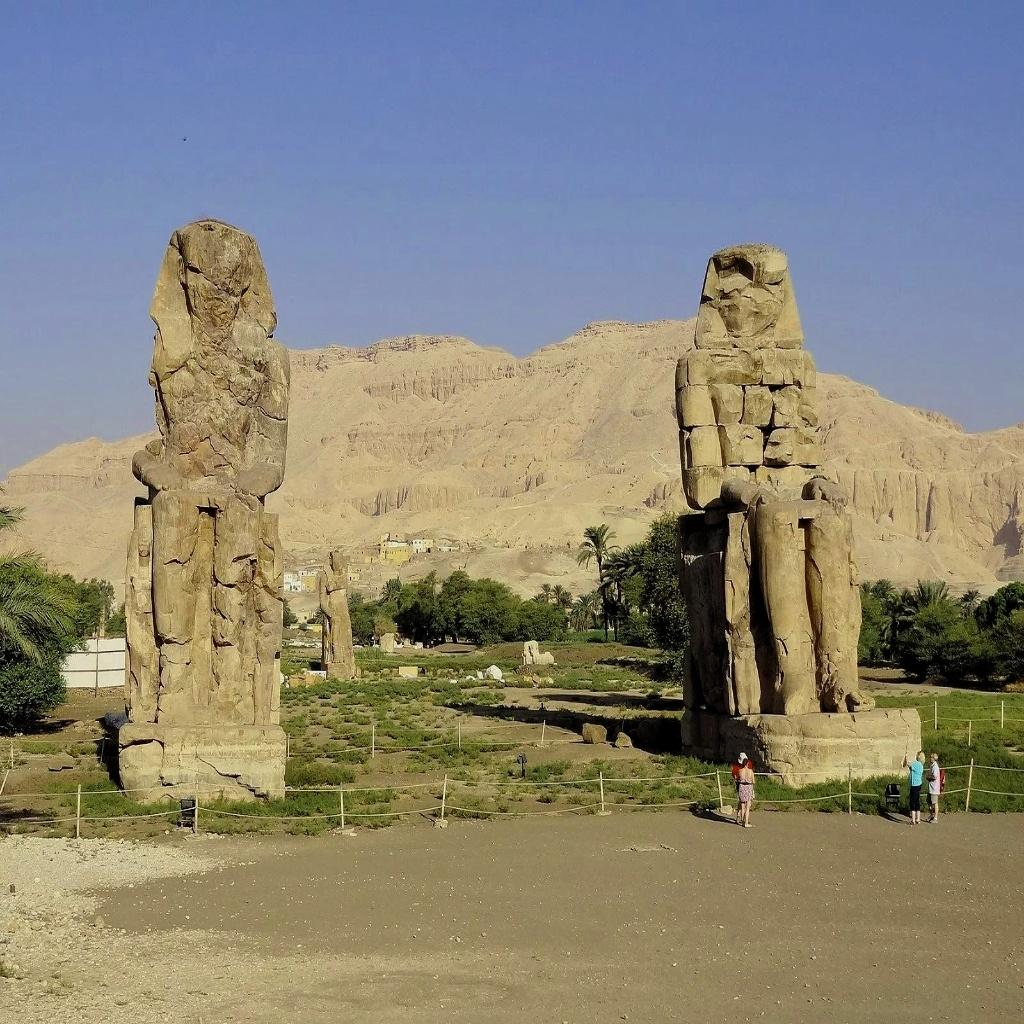Colossoi of Memnon: (670, 238, 920, 786), (114, 216, 294, 807)
